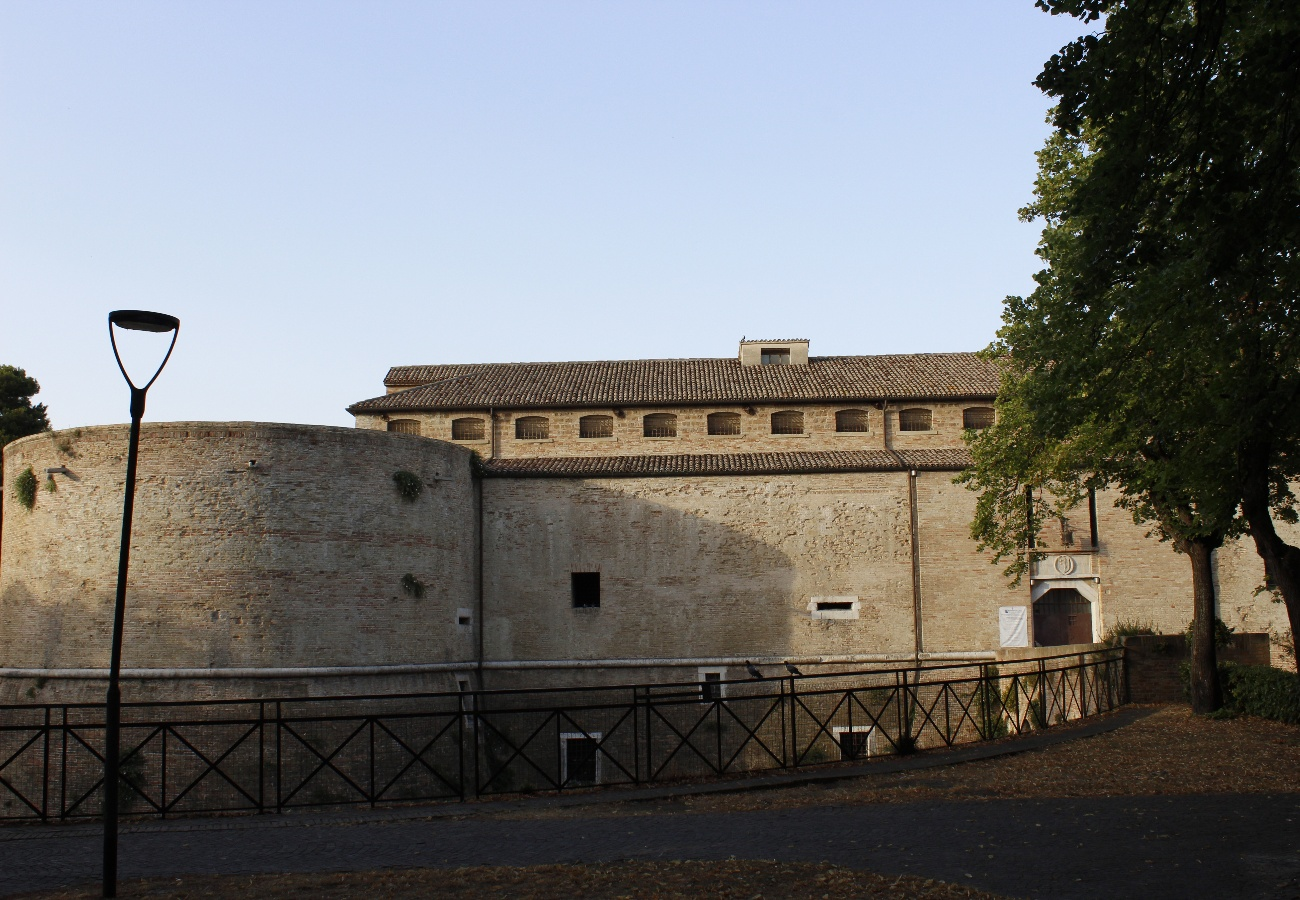Rocca Costanza: (17, 353, 1300, 798)
